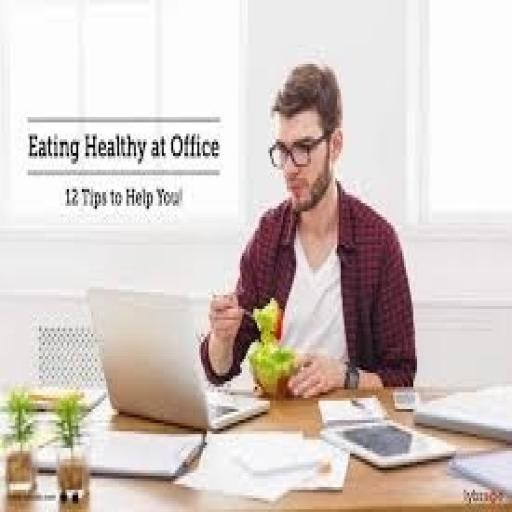eating: (197, 58, 419, 401)
